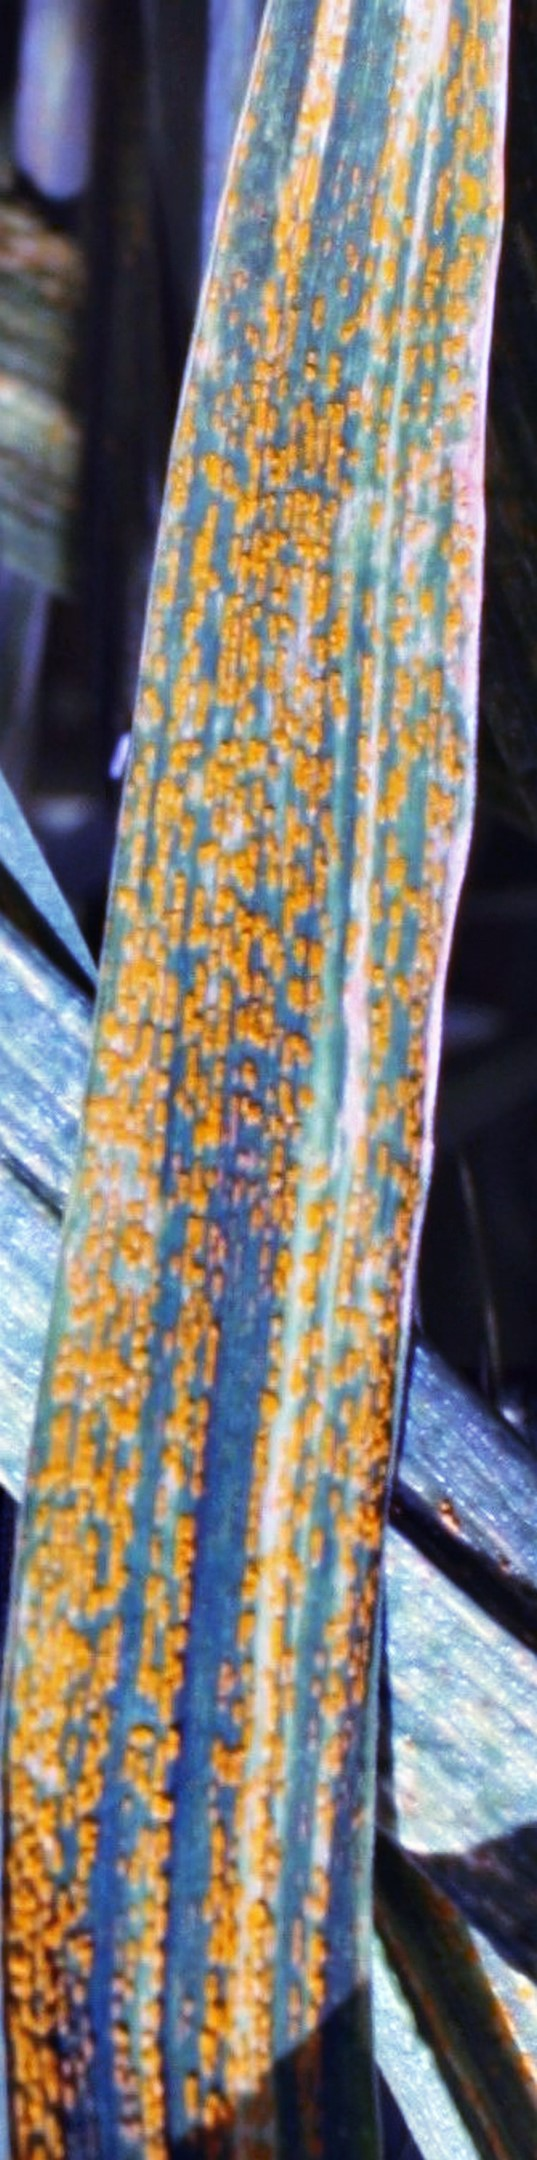Leaf Rust: (34, 74, 537, 2066)
